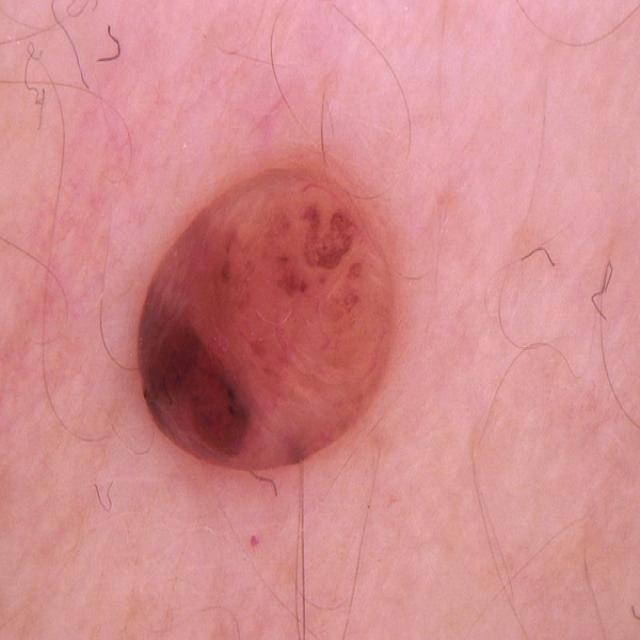NV: (131, 156, 406, 481)
